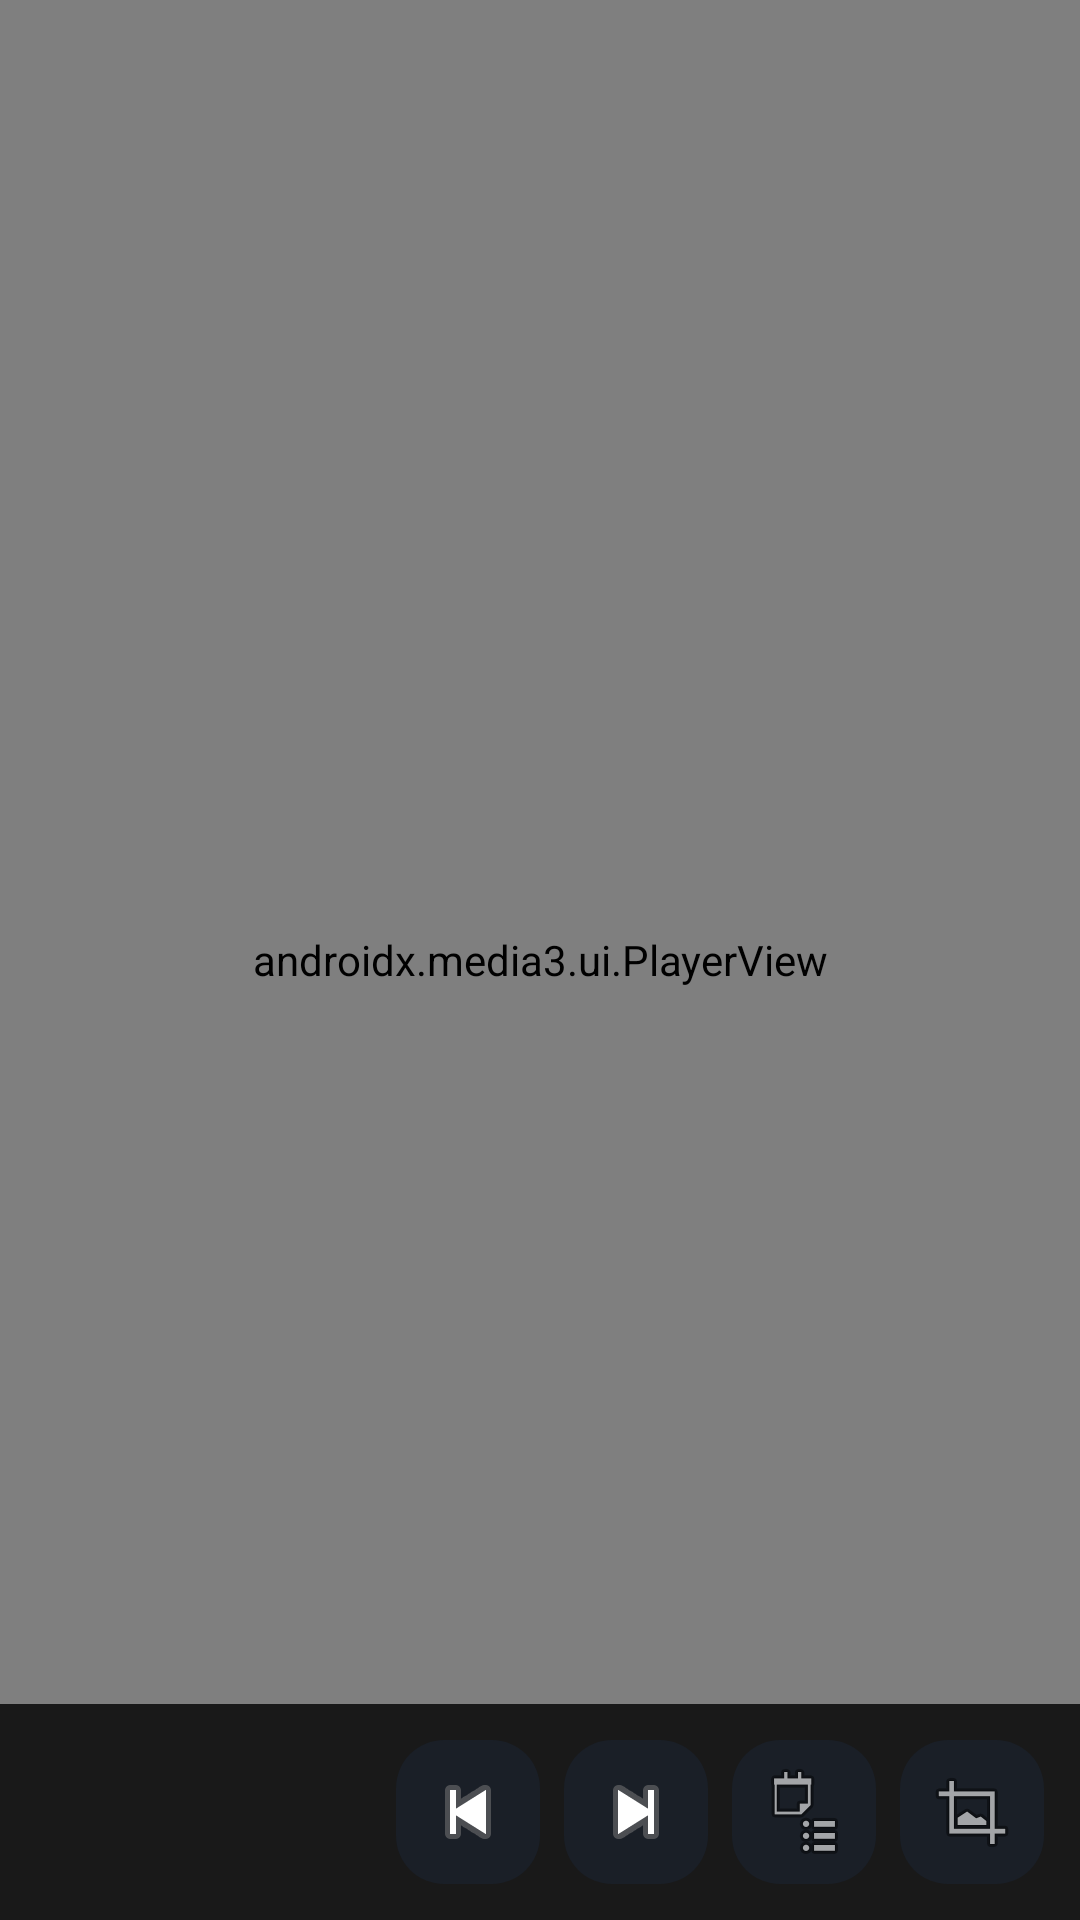

Icon click points for this 1080px x 1920px phone screenshot, format (x,y):
Chaîne précédente: (468,1812)
Chaîne suivante: (636,1812)
Format d'image: (972,1812)
Liste des chaînes: (804,1812)
